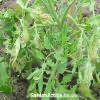Tomato leaf mosaic virus: (27, 66, 39, 80), (70, 38, 80, 54), (58, 58, 68, 74), (2, 20, 14, 33), (61, 74, 74, 85), (44, 35, 52, 50), (35, 49, 45, 60), (38, 74, 44, 92), (62, 21, 67, 41), (69, 84, 78, 95), (46, 58, 55, 68), (77, 57, 89, 64), (54, 53, 62, 61)
